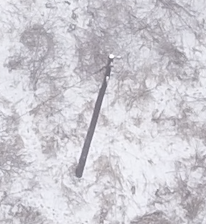pole: (69, 33, 138, 186)
